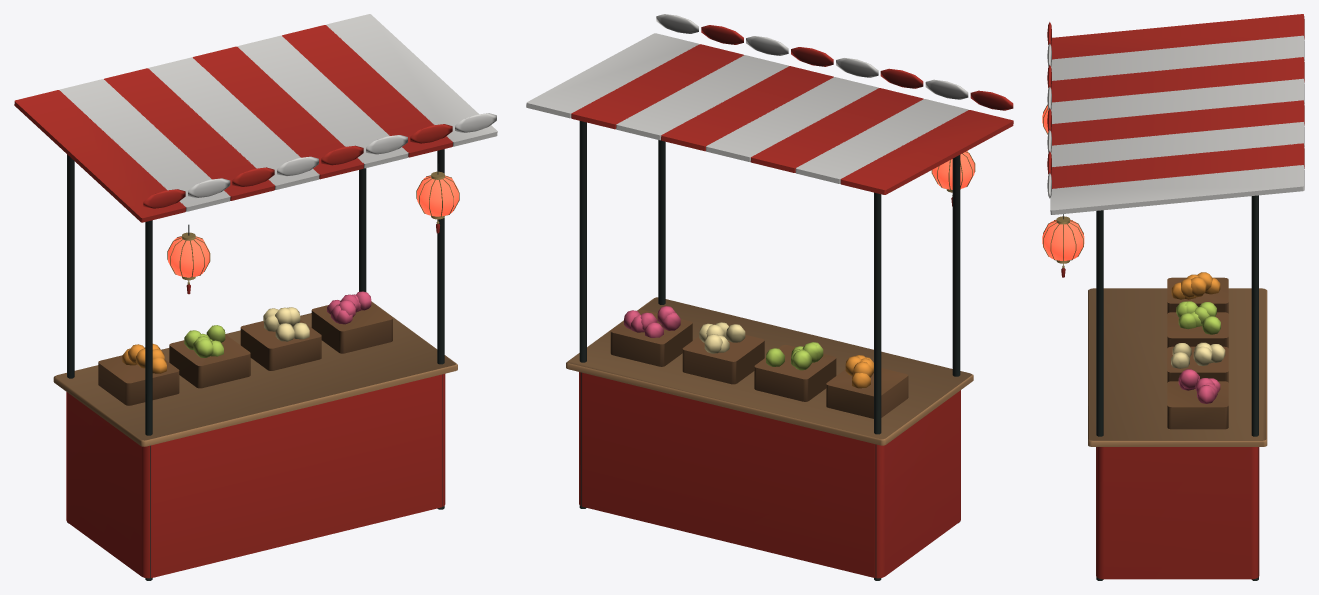
Rendered from sap-hang.glb.
3 views of the same model, side by side, from view 1: azimuth 30°, elevation 25°; view 2: azimuth 150°, elevation 25°; view 3: azimuth 270°, elevation 25° (orthographic).
Visible parts, largest first — view 1: sap-hang; view 2: sap-hang; view 3: sap-hang.
Part boxes in pixels (x1,y1,x2,y2): sap-hang: (14,14,497,580); sap-hang: (526,14,1013,580); sap-hang: (1042,14,1304,580).
Bounding box in the file's own units: 2 × 2.21 × 1.28.
